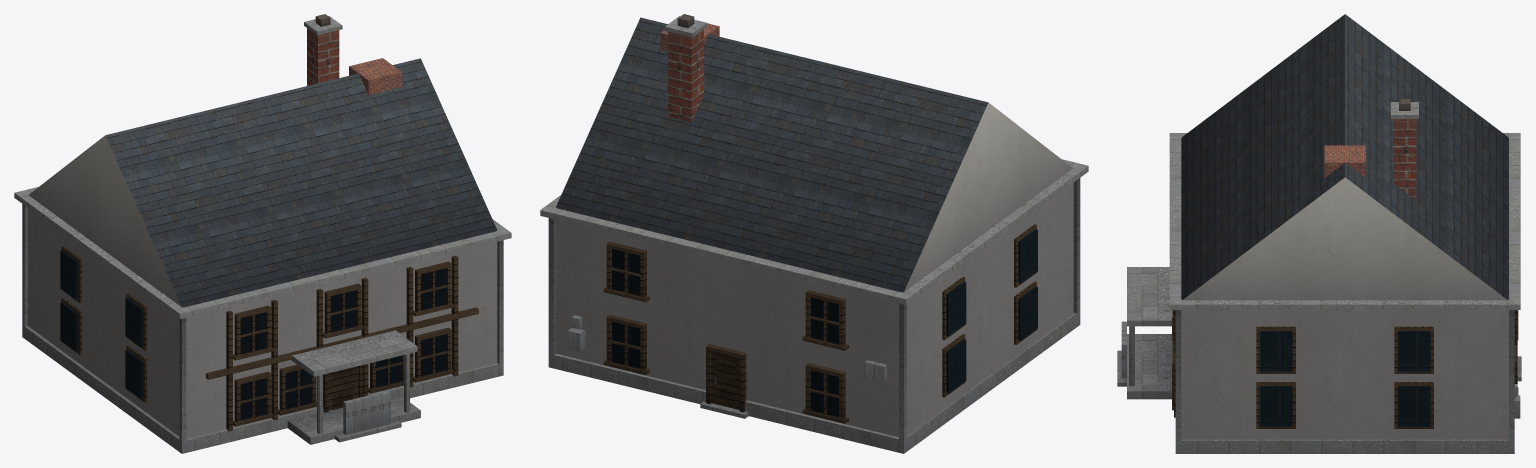
Rendered from tudor-house_lod0.gltf.
3 renders of one model, left to right at view 1: azimuth 30°, elevation 25°; view 2: azimuth 150°, elevation 25°; view 3: azimuth 270°, elevation 25°, orthographic. The views are drawn at different scales.
Visible parts, largest first — view 1: tudor-house_roof, tudor-house_walls, tudor-house__v4_stone_detail, tudor-house_fen_18-timber-siding_0_t, tudor-house_gable_ends, tudor-house_fen_07-glass-curtain-blue_4_t, tudor-house__gate, tudor-house__v4_brick_detail, tudor-house__chimney, tudor-house_fen_18-timber-siding_1_t; view 2: tudor-house_roof, tudor-house_walls, tudor-house__v4_stone_detail, tudor-house_gable_ends, tudor-house_fen_18-timber-siding_0_t, tudor-house_fen_07-glass-curtain-blue_4_t, tudor-house__v4_brick_detail, tudor-house_fen_14-steel-panel_5, tudor-house_fen_18-timber-siding_1_t; view 3: tudor-house_roof, tudor-house_walls, tudor-house__v4_stone_detail, tudor-house_gable_ends, tudor-house_fen_07-glass-curtain-blue_4_t, tudor-house_fen_18-timber-siding_0_t, tudor-house__v4_brick_detail, tudor-house__chimney.
Part boxes in pixels (left/top/right/bottom): tudor-house_roof: left=105, top=58, right=497, bottom=307; tudor-house_walls: left=28, top=208, right=497, bottom=438; tudor-house__v4_stone_detail: left=14, top=16, right=511, bottom=453; tudor-house_fen_18-timber-siding_0_t: left=61, top=245, right=478, bottom=431; tudor-house_gable_ends: left=28, top=135, right=181, bottom=306; tudor-house_fen_07-glass-curtain-blue_4_t: left=60, top=250, right=446, bottom=420; tudor-house__gate: left=343, top=390, right=390, bottom=434; tudor-house__v4_brick_detail: left=307, top=28, right=339, bottom=85; tudor-house__chimney: left=349, top=58, right=402, bottom=95; tudor-house_fen_18-timber-siding_1_t: left=333, top=367, right=352, bottom=409; tudor-house_roof: left=556, top=17, right=988, bottom=292; tudor-house_walls: left=555, top=183, right=1073, bottom=437; tudor-house__v4_stone_detail: left=540, top=16, right=1088, bottom=453; tudor-house_gable_ends: left=904, top=102, right=1072, bottom=291; tudor-house_fen_18-timber-siding_0_t: left=603, top=224, right=1036, bottom=423; tudor-house_fen_07-glass-curtain-blue_4_t: left=612, top=229, right=1037, bottom=417; tudor-house__v4_brick_detail: left=668, top=29, right=703, bottom=121; tudor-house_fen_14-steel-panel_5: left=568, top=315, right=887, bottom=382; tudor-house_fen_18-timber-siding_1_t: left=716, top=359, right=735, bottom=407; tudor-house_roof: left=1181, top=14, right=1508, bottom=299; tudor-house_walls: left=1181, top=310, right=1508, bottom=439; tudor-house__v4_stone_detail: left=1117, top=102, right=1520, bottom=453; tudor-house_gable_ends: left=1182, top=177, right=1507, bottom=300; tudor-house_fen_07-glass-curtain-blue_4_t: left=1259, top=331, right=1430, bottom=427; tudor-house_fen_18-timber-siding_0_t: left=1172, top=310, right=1518, bottom=428; tudor-house__v4_brick_detail: left=1393, top=119, right=1416, bottom=200; tudor-house__chimney: left=1324, top=145, right=1365, bottom=177.
Size of the model in its own units: 14.72 by 12.61 by 14.66.
